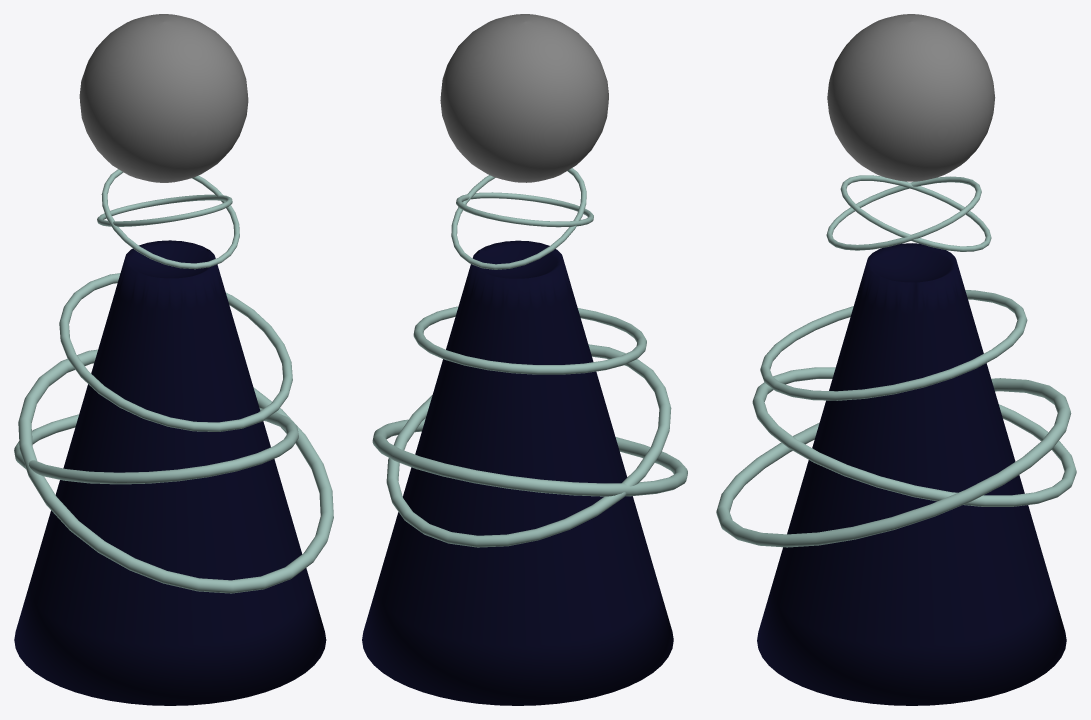
The model's file is 1ihii.fbx.
3 renders of one model, left to right at view 1: azimuth 30°, elevation 25°; view 2: azimuth 150°, elevation 25°; view 3: azimuth 270°, elevation 25°, orthographic.
Parts seen in each view (by area): view 1: Cone001; view 2: Cone001; view 3: Cone001.
Part boxes in pixels (x1=…): Cone001: x1=14, y1=14, x2=333, y2=705; Cone001: x1=362, y1=14, x2=687, y2=705; Cone001: x1=716, y1=14, x2=1076, y2=705.
Bounding box in the file's own units: 31.54 × 69.16 × 36.7.
